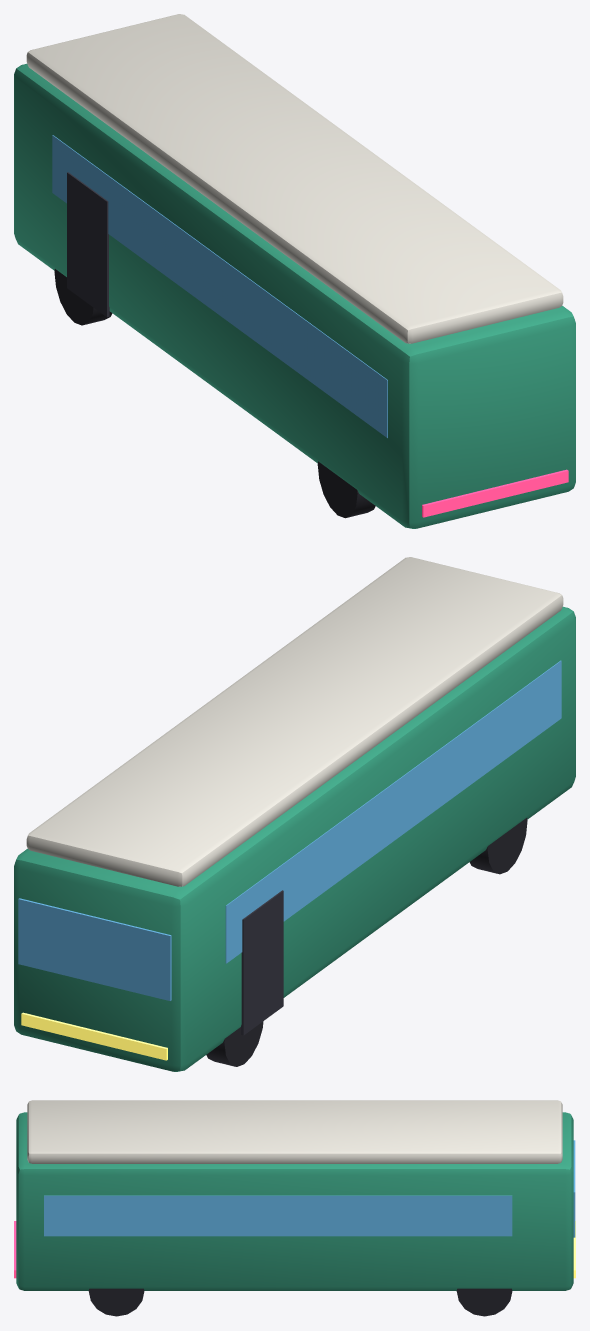
File: bus.glb
3 views of the same model, one above another, from view 1: azimuth 30°, elevation 25°; view 2: azimuth 150°, elevation 25°; view 3: azimuth 270°, elevation 25° (orthographic). The views are drawn at different scales.
Visible parts, largest first — view 1: body; view 2: body; view 3: body.
Part boxes in pixels (x1,y1,x2,y2): body: [14, 14, 575, 528]; body: [14, 557, 575, 1071]; body: [14, 1100, 575, 1316].
Bounding box in the file's own units: 2.54 × 3.2 × 10.08.
